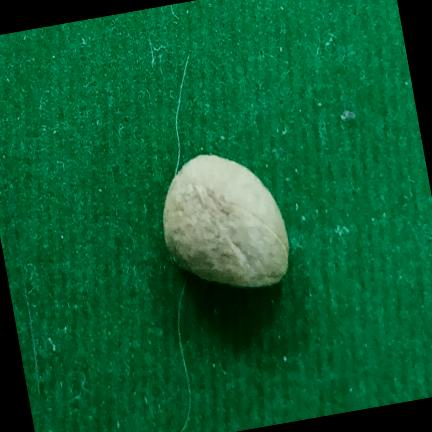cut: (163, 155, 289, 288)
